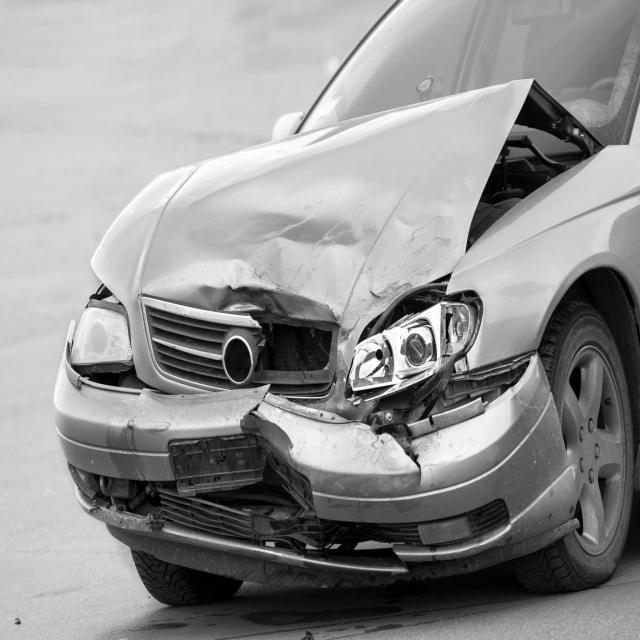crush: (53, 79, 606, 589)
